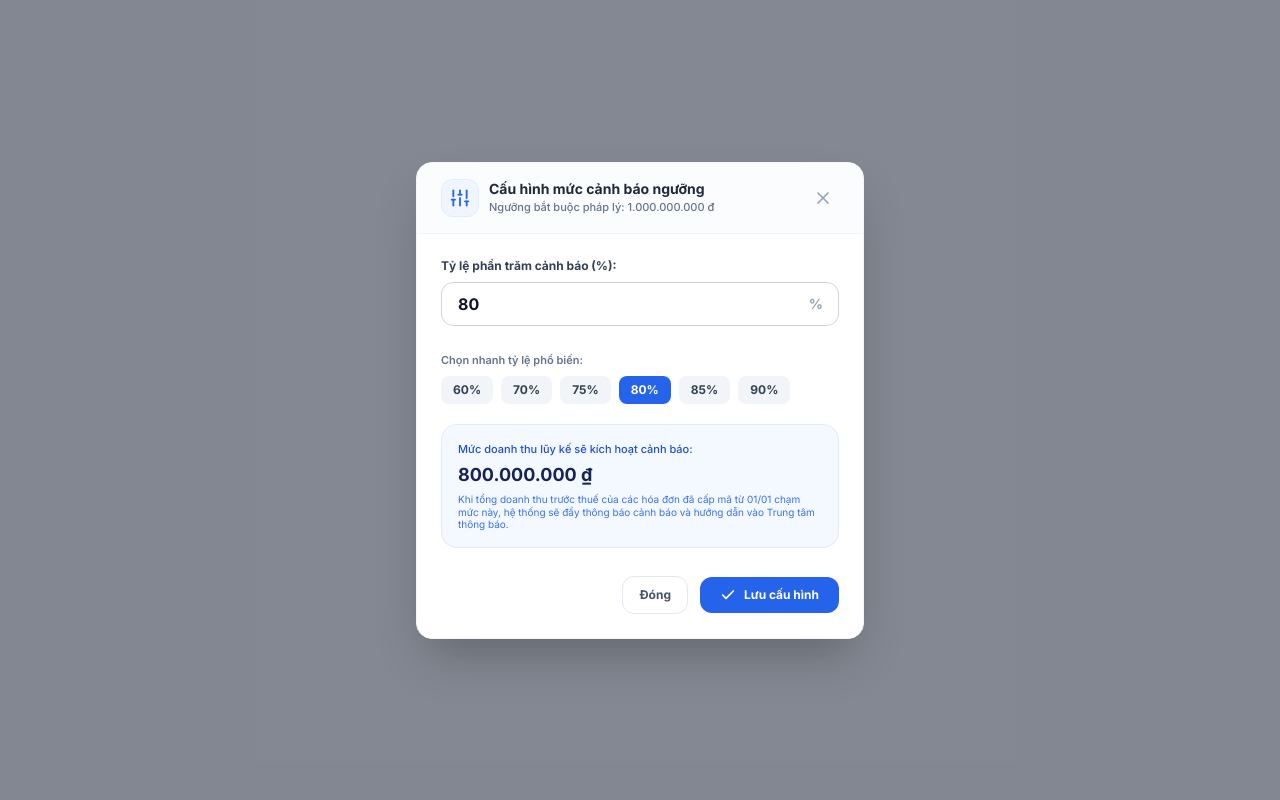
Test case: NCL-12-CN-005: Theo dõi doanh thu lũy kế năm và cảnh báo ngưỡng bắt buộc › Modal Cấu hình Ngưỡng: Kiểm tra validation form tỷ lệ từ 50% đến 99% và nút chọn nhanh
Expected: the heading "Cấu hình mức cảnh báo ngưỡng" is shown, top-left (489, 179), bottom-right (714, 199)
Expected: the number field showing "80" is shown, top-left (441, 282), bottom-right (839, 326)
// Thử chọn nhanh 85%
Click the button "85%". click: (705, 390)
box: top-left (679, 376), bottom-right (730, 404)
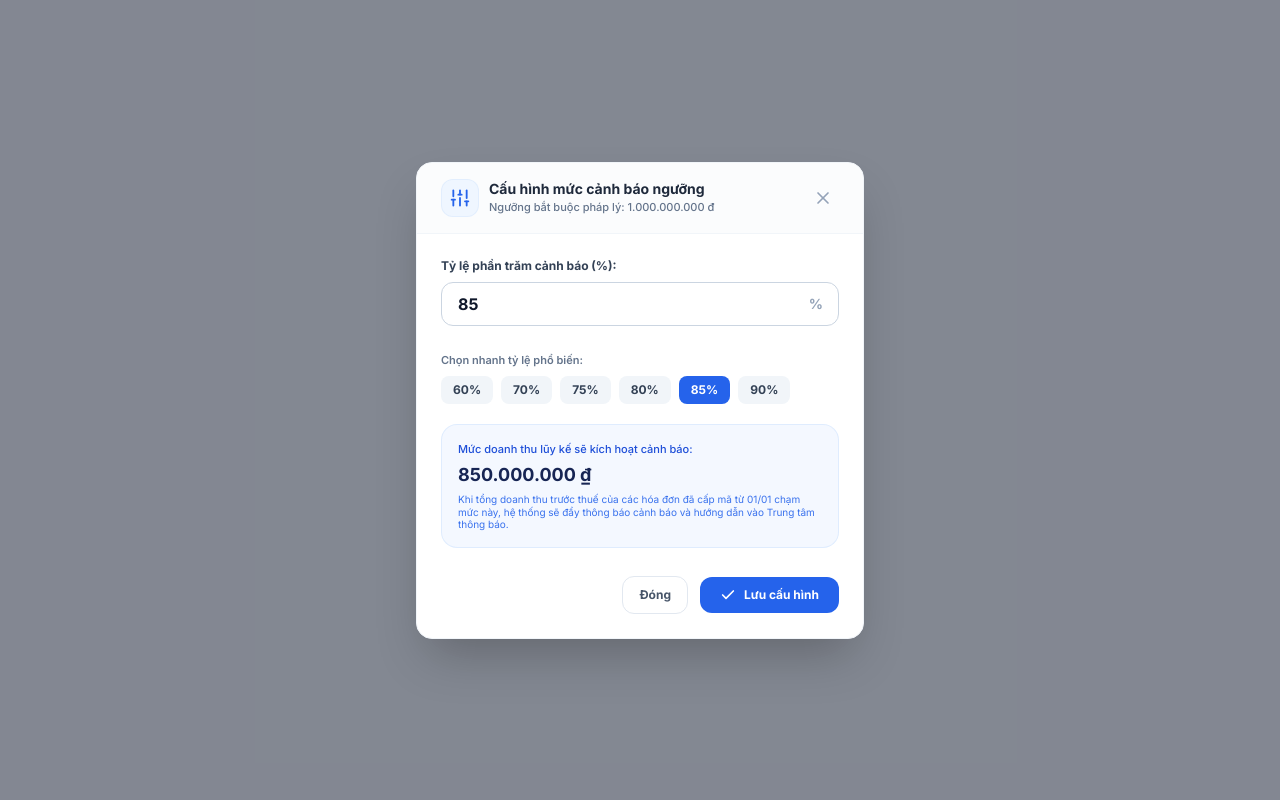
Result: the number field showing "85" is shown
Result: the text "850.000.000 ₫" is shown at top-left (458, 464), bottom-right (591, 485)
Replace the text in the number field labelled "Tỷ lệ phần trăm cảnh báo (%):" with "40". click: (640, 304)
box: top-left (441, 282), bottom-right (839, 326)
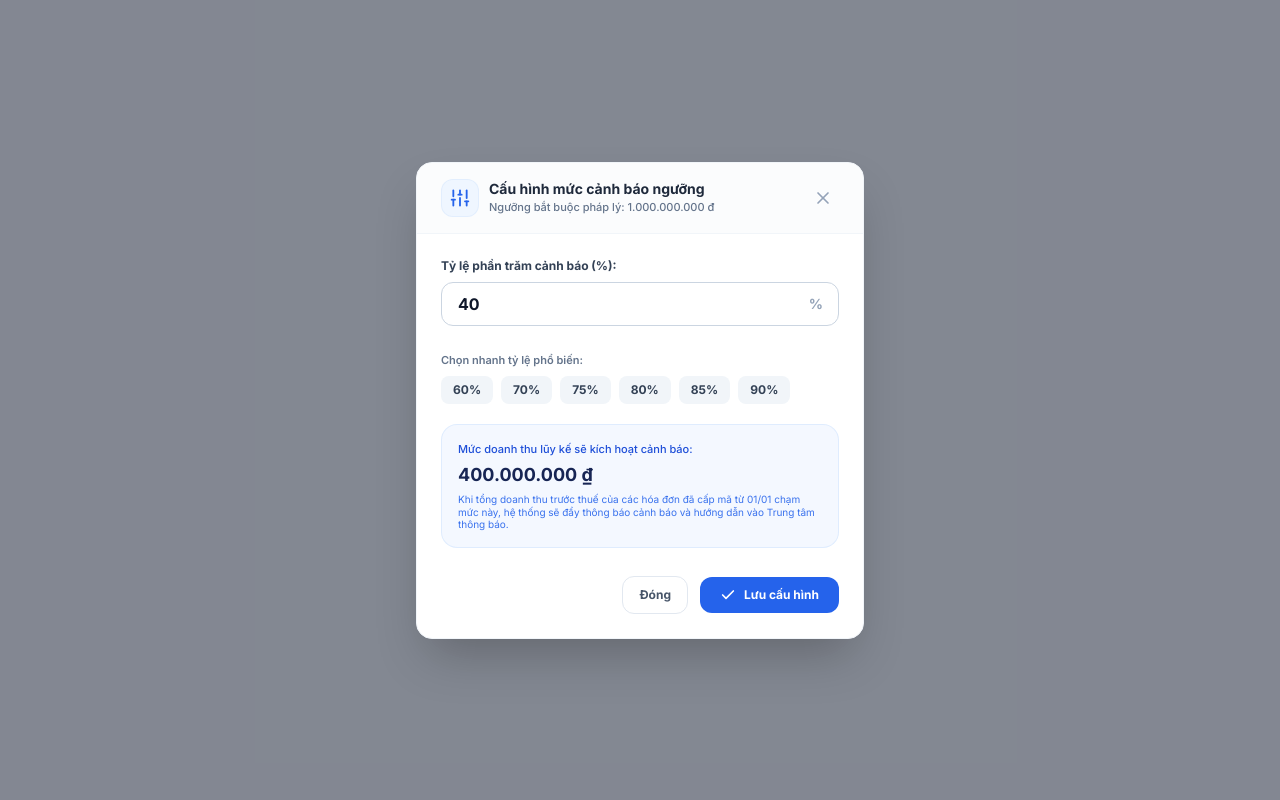
Click the button "Lưu cấu hình". click: (770, 594)
box: top-left (700, 576), bottom-right (839, 612)
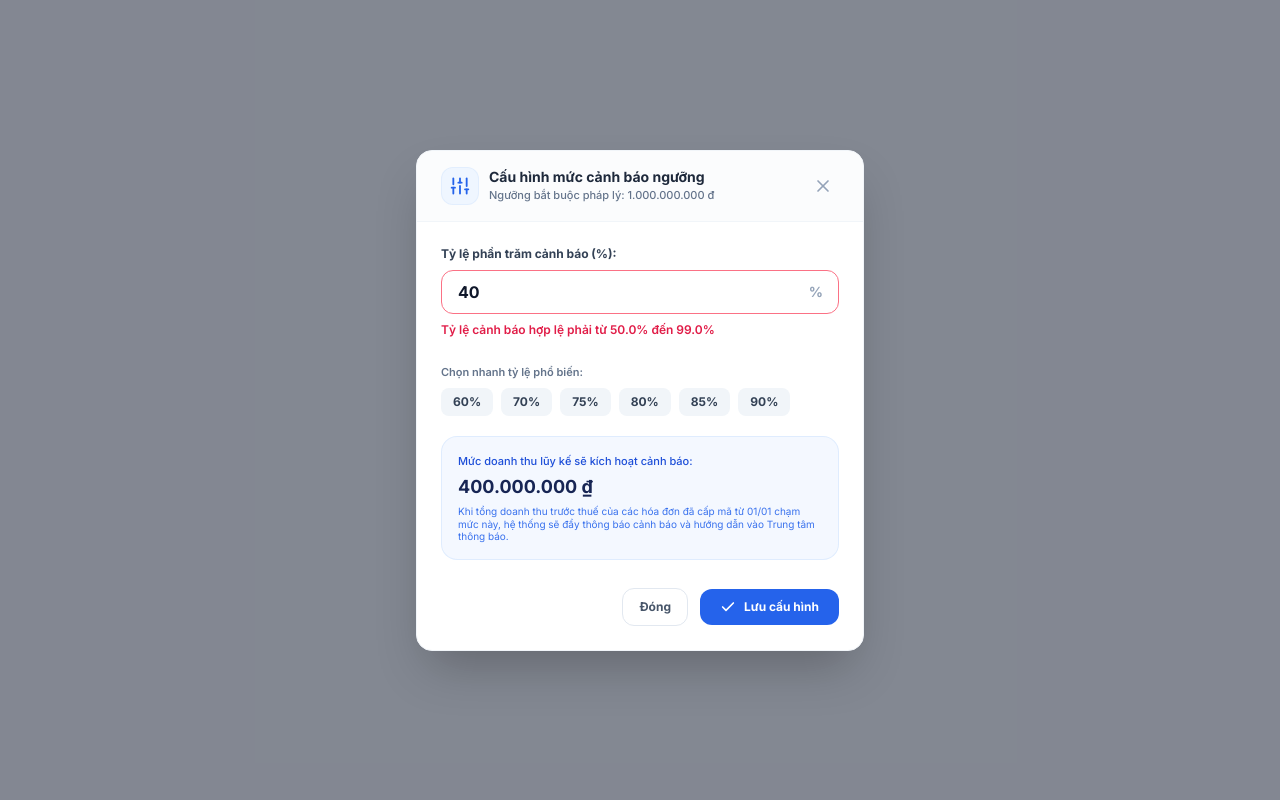
Result: the text "Tỷ lệ cảnh báo hợp lệ phải từ 50.0% đến 99.0%" is shown at top-left (441, 322), bottom-right (715, 336)
